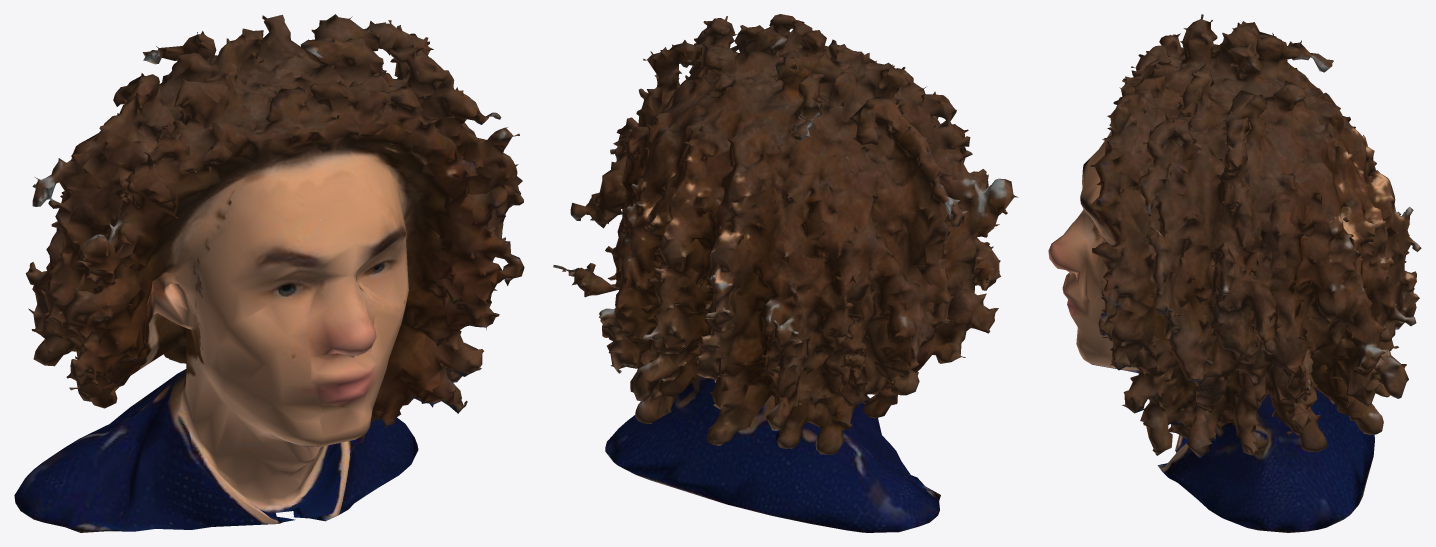
The model's file is locken.glb.
The picture shows the model from 3 angles, left to right: view 1: azimuth 30°, elevation 25°; view 2: azimuth 150°, elevation 25°; view 3: azimuth 270°, elevation 25°; orthographic projection. The views are drawn at different scales.
Visible parts, largest first — view 1: tripo_node_3c407866-e254-4464-ae16-25eb32737335; view 2: tripo_node_3c407866-e254-4464-ae16-25eb32737335; view 3: tripo_node_3c407866-e254-4464-ae16-25eb32737335.
Boxes of the visible parts, bbox=[...] form: tripo_node_3c407866-e254-4464-ae16-25eb32737335: bbox=[14, 14, 524, 532]; tripo_node_3c407866-e254-4464-ae16-25eb32737335: bbox=[553, 14, 1018, 532]; tripo_node_3c407866-e254-4464-ae16-25eb32737335: bbox=[1048, 14, 1421, 532].
Bounding box in the file's own units: 0.996 × 0.9794 × 0.8029.
Materials: 1 (1 with a texture image).
